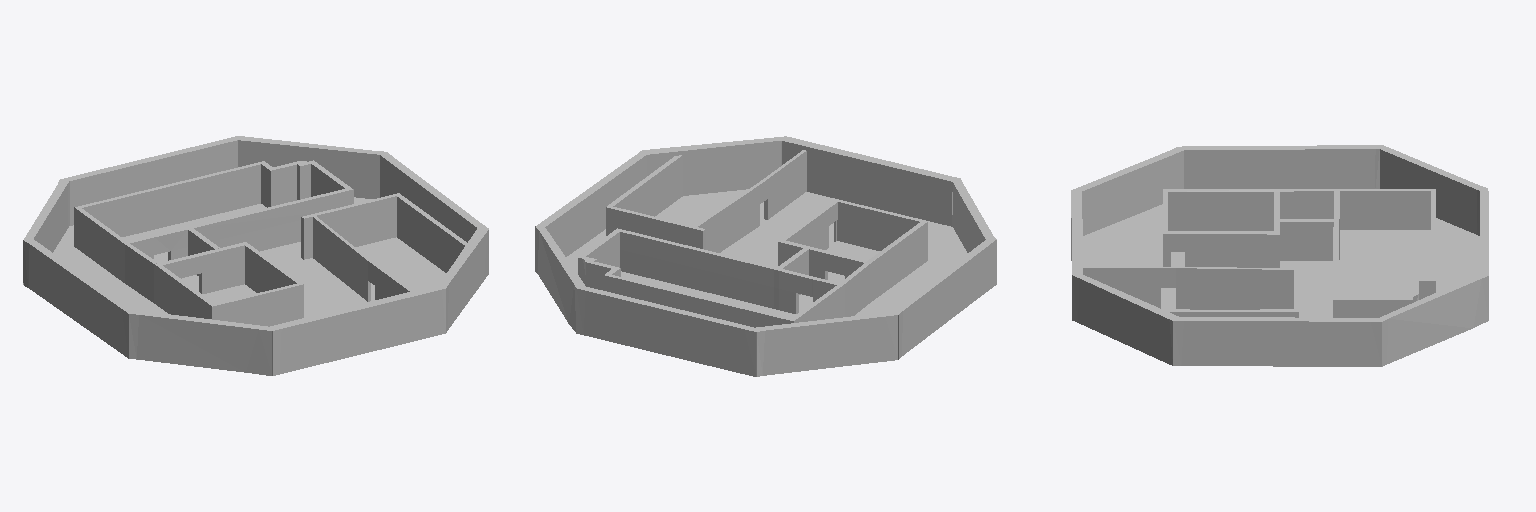
Rendered from catacumba.obj.
3 renders of one model, left to right at view 1: azimuth 30°, elevation 25°; view 2: azimuth 150°, elevation 25°; view 3: azimuth 270°, elevation 25°, orthographic.
Visible parts, largest first — view 1: catacumba; view 2: catacumba; view 3: catacumba.
Part boxes in pixels (x1,y1,x2,y2): catacumba: (23,136,488,375); catacumba: (535,136,996,376); catacumba: (1071,145,1488,366).
Bounding box in the file's own units: 593 × 70.8 × 591.